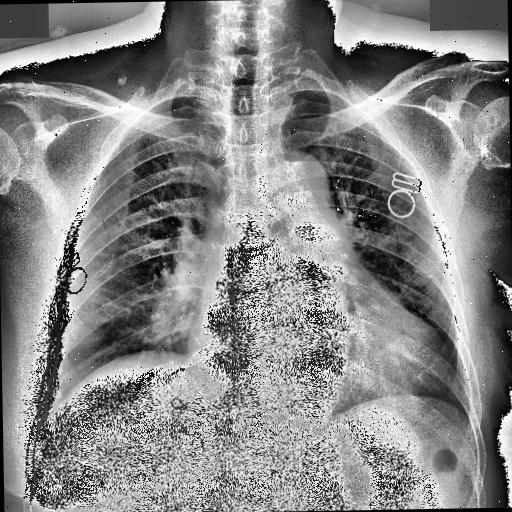0- Aortic enlargement: (248, 146, 340, 222), (266, 147, 344, 232), (254, 148, 332, 222)
3- Cardiomegaly: (186, 302, 457, 424), (189, 288, 453, 402), (186, 309, 454, 400)
